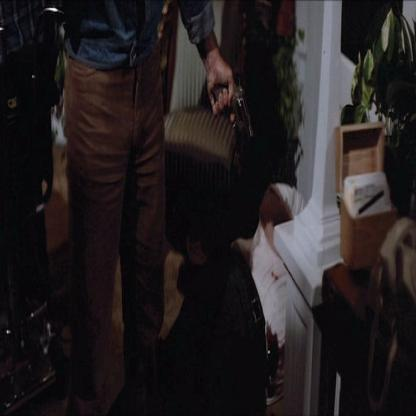gun: (224, 55, 258, 157)
